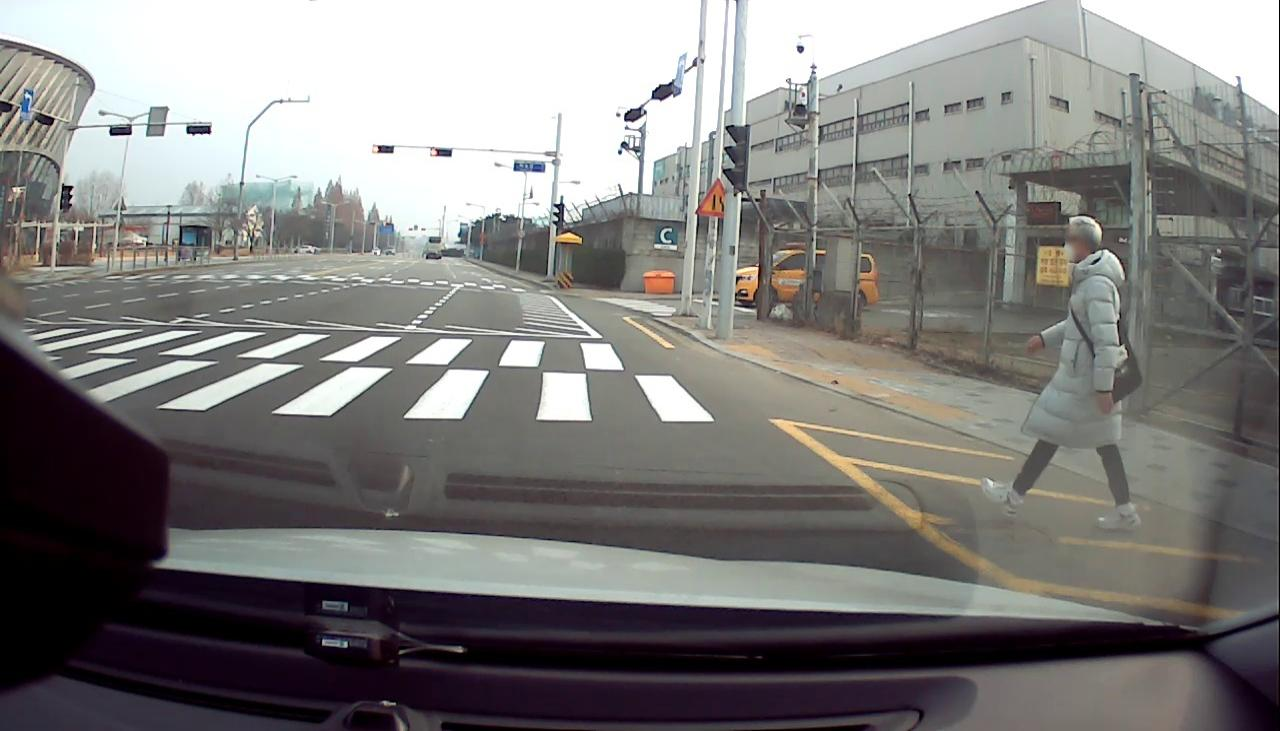Red Light: (430, 146, 440, 157), (371, 143, 380, 154)
